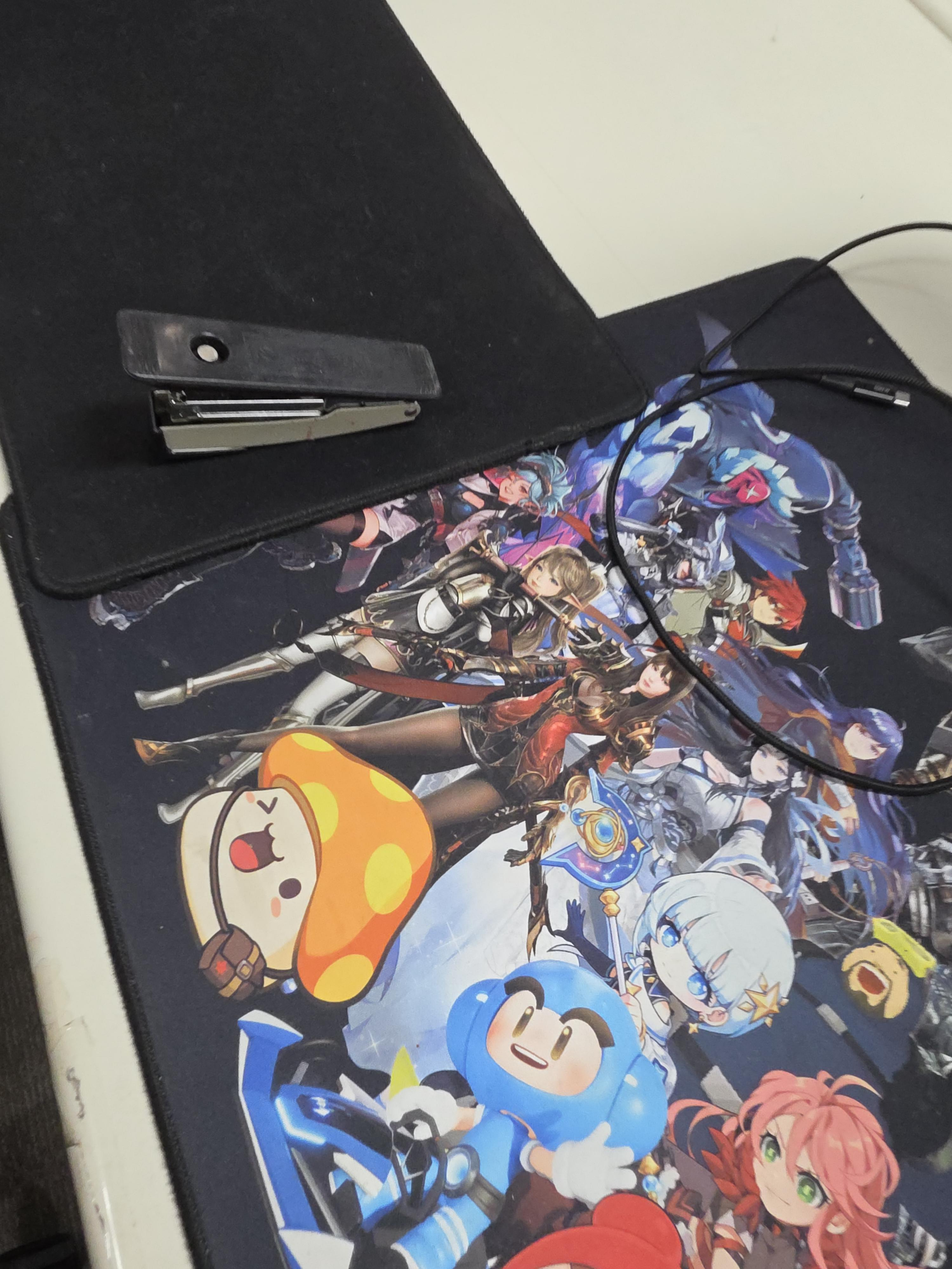stapler: (116, 309, 441, 456)
